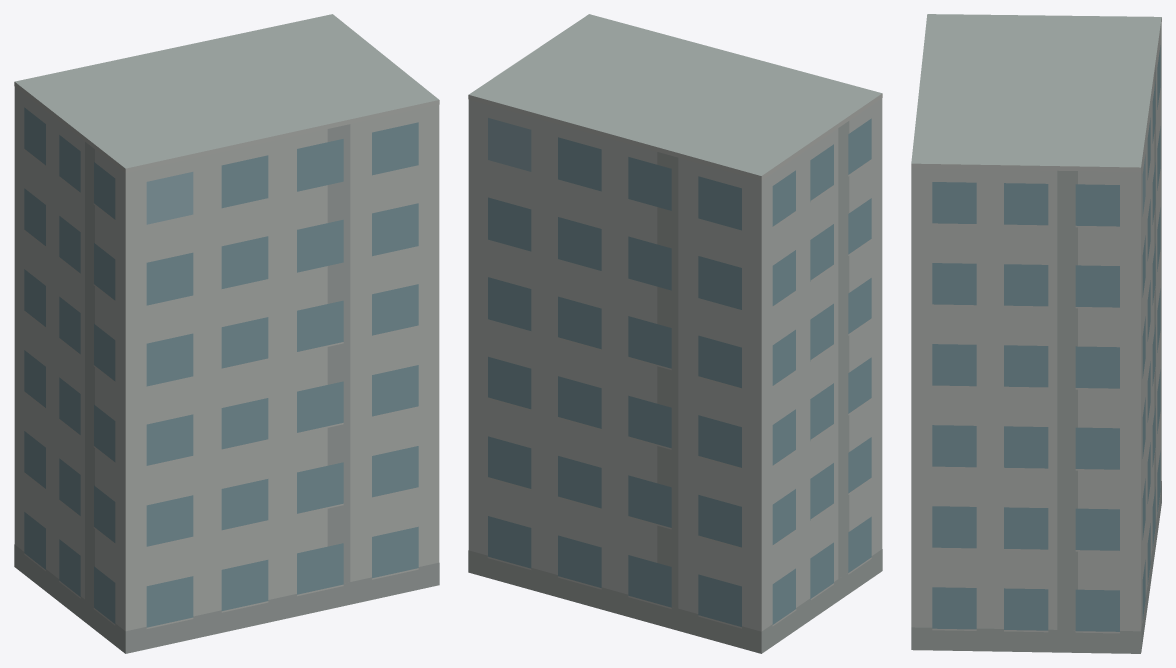
File: survey-upis-32768615.glb
3 views of the same model, side by side, from view 1: azimuth 30°, elevation 25°; view 2: azimuth 150°, elevation 25°; view 3: azimuth 270°, elevation 25° (orthographic).
Parts seen in each view (by area): view 1: survey-upis-32768615.tmp; view 2: survey-upis-32768615.tmp; view 3: survey-upis-32768615.tmp.
Part boxes in pixels (bbox=[...]): survey-upis-32768615.tmp: bbox=[14, 14, 439, 653]; survey-upis-32768615.tmp: bbox=[468, 14, 882, 653]; survey-upis-32768615.tmp: bbox=[911, 14, 1161, 653].
Bounding box in the file's own units: 17.06 × 25.2 × 11.77.
